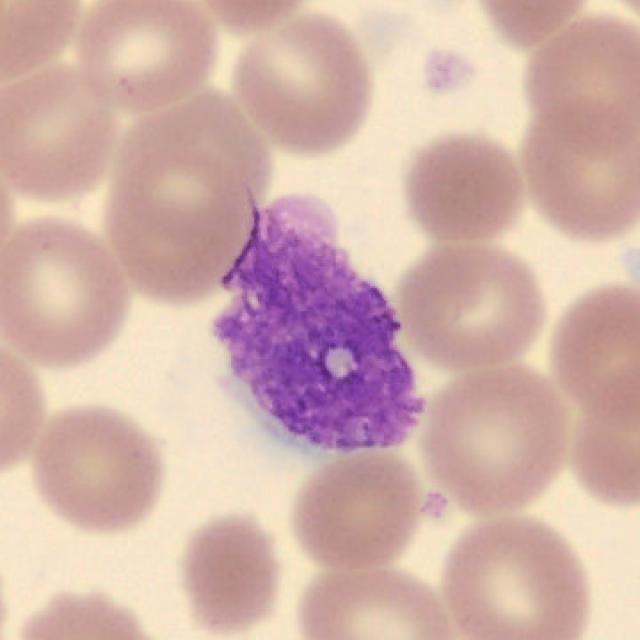Restos celulares: (212, 194, 425, 457)
